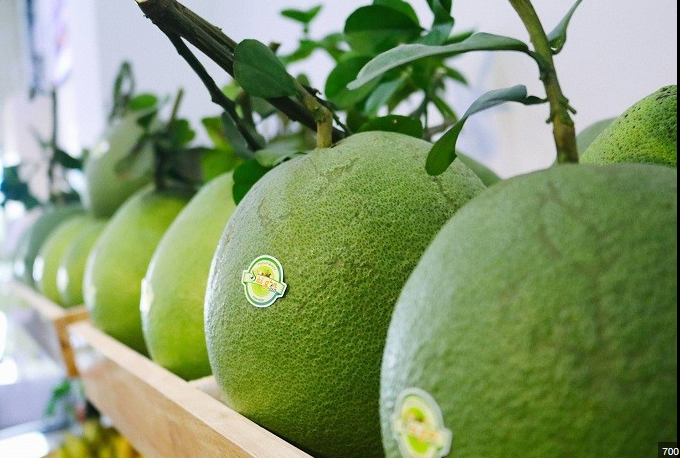buoi: (205, 132, 490, 451), (377, 159, 678, 457), (145, 132, 317, 381), (85, 163, 203, 353)
